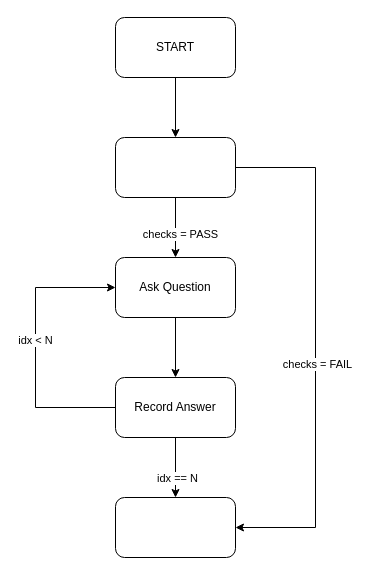
Image size: 369x575. Some labels were removed from this diagram. The shapes that lost their labels are listed below. From the top down, each one's box as (x1, y1, x2, y2) in pixels, then its label:
(114, 136, 236, 198): Initial Configuration & Checks
(114, 496, 236, 558): END
